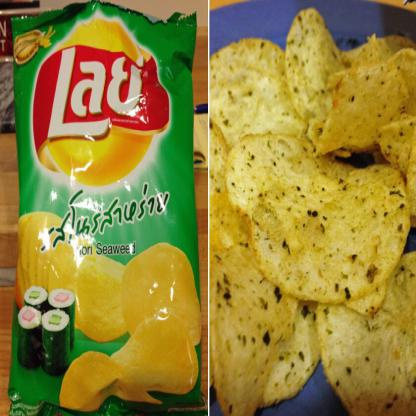potatochip: (0, 0, 209, 415)
